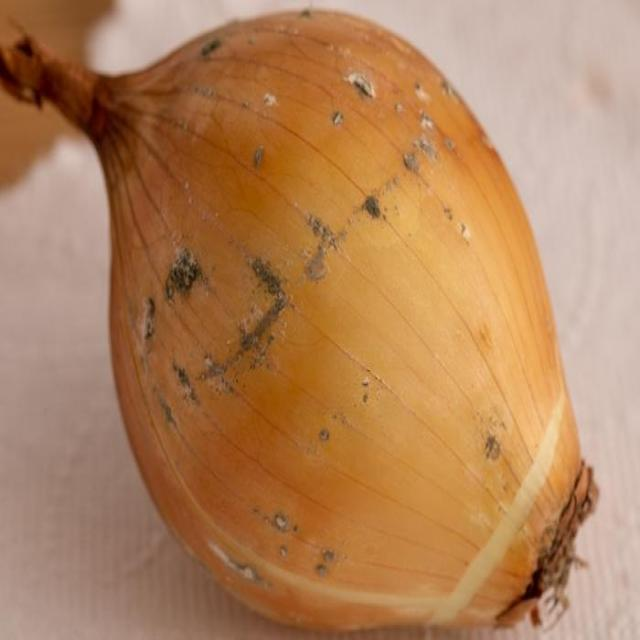Onion: (7, 11, 606, 637)
